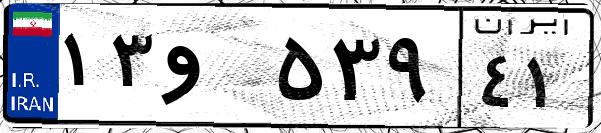1: (57, 26, 110, 100), (525, 38, 570, 115)
3: (330, 28, 385, 110), (110, 28, 158, 98)
4: (475, 38, 525, 113)
5: (270, 28, 330, 110)
9: (385, 28, 445, 110)
و: (158, 20, 270, 120)
